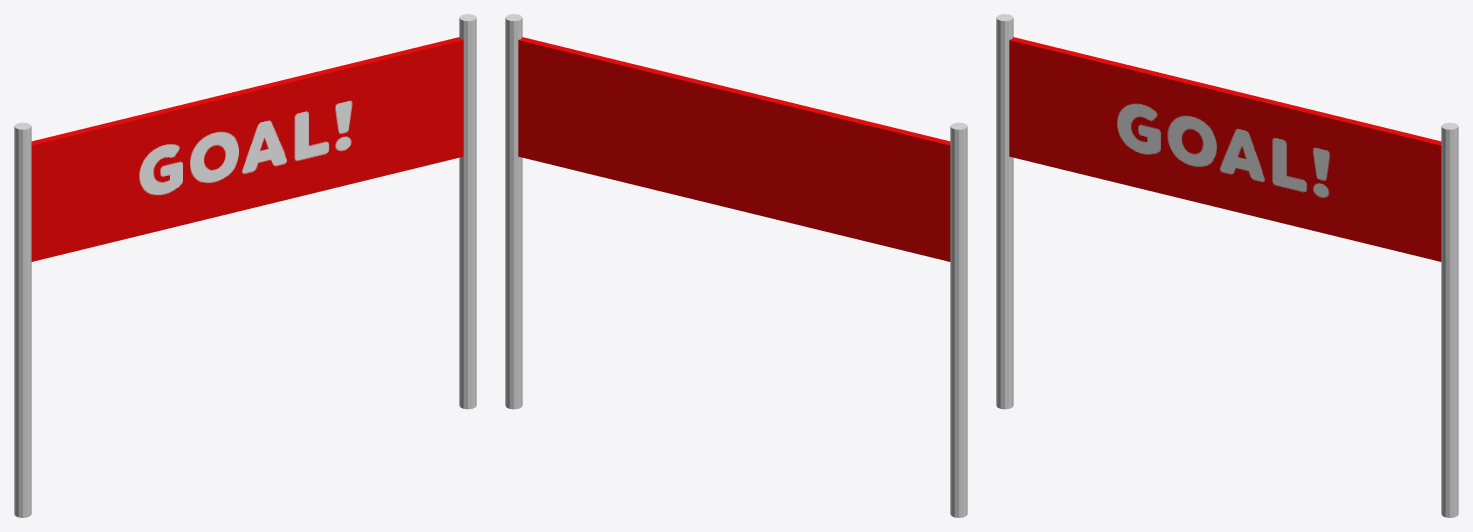
File: goal.fbx
3 renders of one model, left to right at view 1: azimuth 30°, elevation 25°; view 2: azimuth 150°, elevation 25°; view 3: azimuth 330°, elevation 25°, orthographic.
Parts seen in each view (by area): view 1: pCube1, pCylinder2, pCylinder1; view 2: pCube1, pCylinder2, pCylinder1; view 3: pCube1, pCylinder1, pCylinder2.
Boxes of the visible parts, <box> form: pCube1: <box>31,37,463,261</box>; pCylinder2: <box>14,122,31,517</box>; pCylinder1: <box>459,14,476,409</box>; pCube1: <box>518,37,950,261</box>; pCylinder2: <box>950,122,967,517</box>; pCylinder1: <box>505,14,522,409</box>; pCube1: <box>1009,37,1441,261</box>; pCylinder1: <box>1441,122,1458,517</box>; pCylinder2: <box>996,14,1013,409</box>.
Bounding box in the file's own units: 6.2 × 5 × 0.2.
